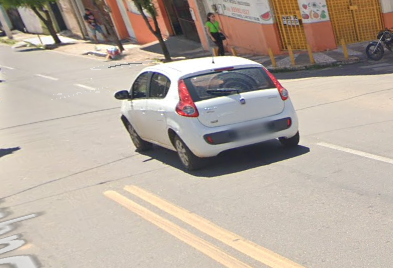car: (111, 47, 305, 174)
